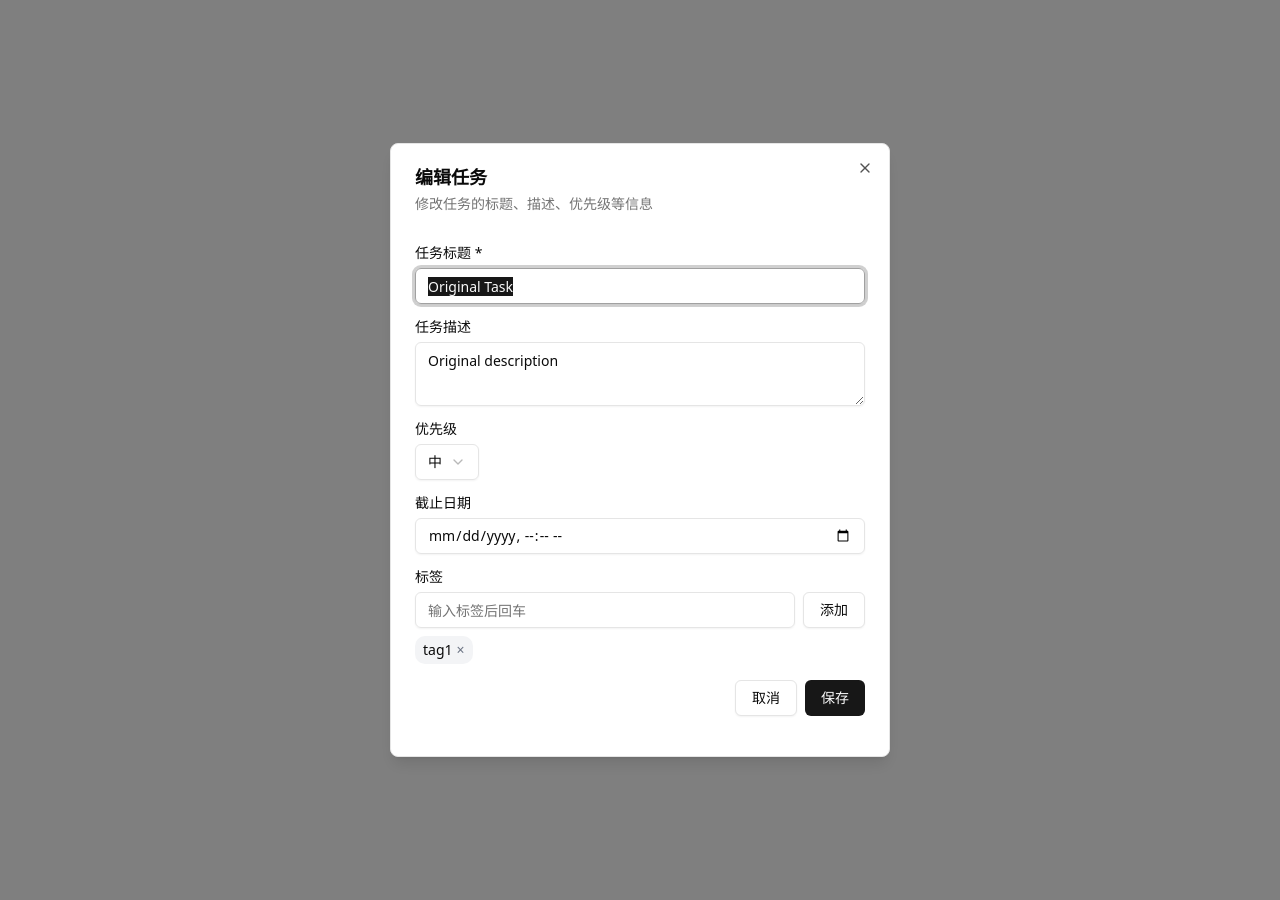
it: TaskEditDialog › 应该能够删除标签
This screenshot has width=1280, height=900.
Expected: the text "tag1" is shown, [423,640,452,659]
Click the button "×" at x=460, y=650, box [456,640,464,660]
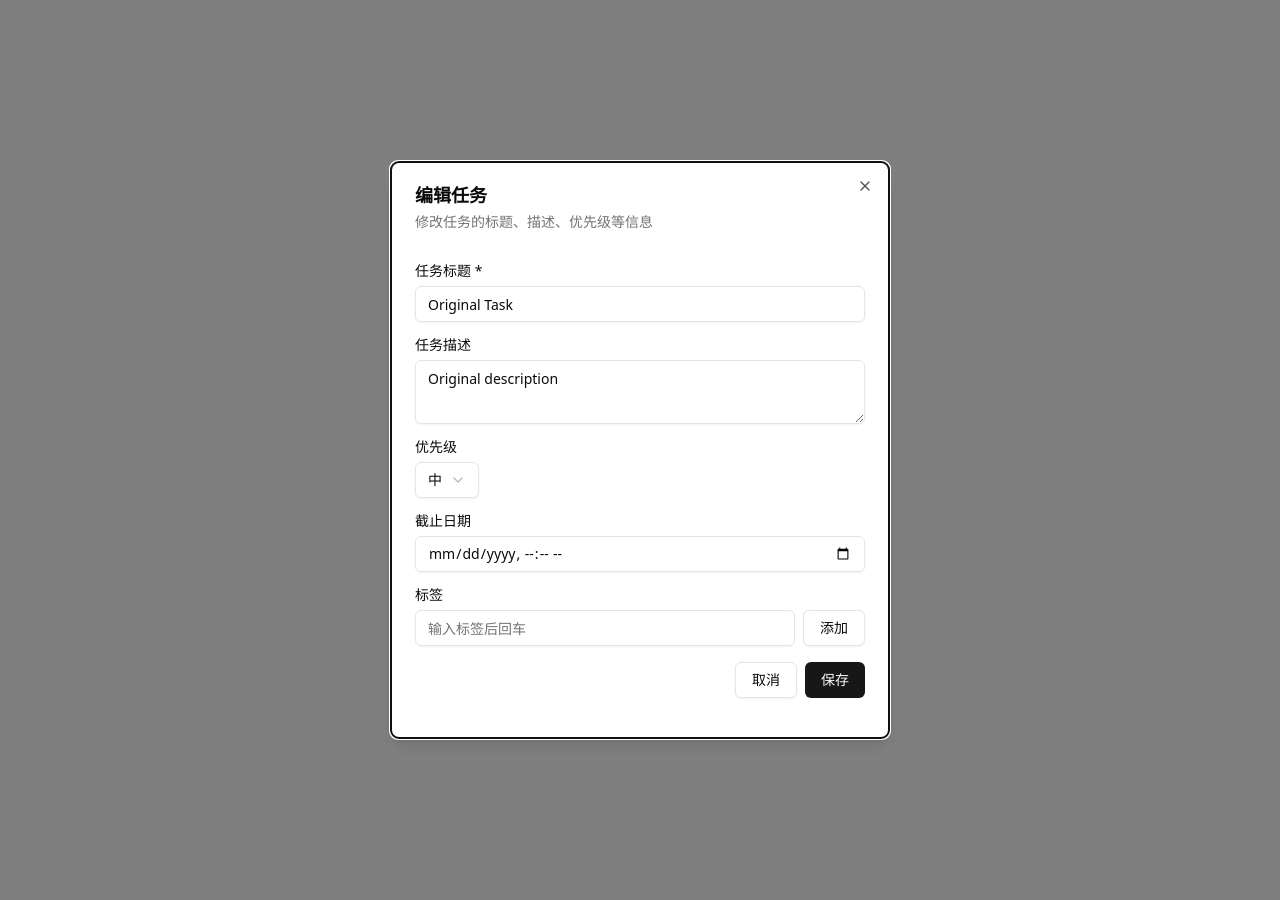
Expected: the text "tag1" is gone
